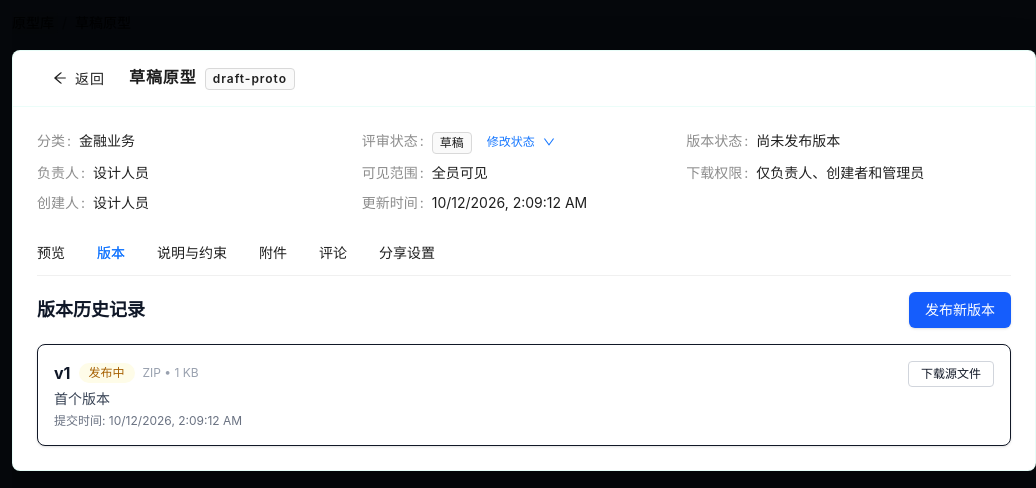
Test: PrototypeDetailPage › shows publishing hint on preview tab while first version is still publishing
This screenshot has width=1036, height=488.
Click the tab "预览" at (51, 253), box [37, 242, 65, 264]
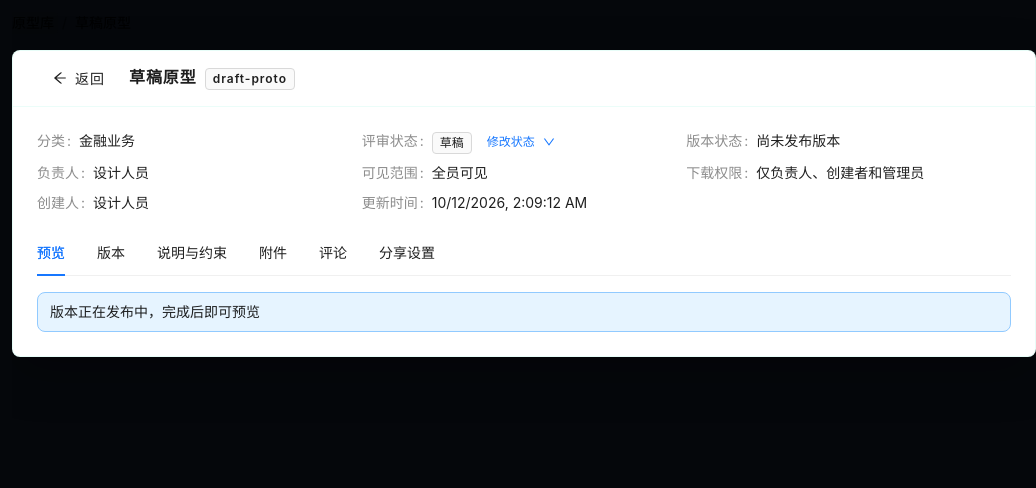
Result: the text "版本正在发布中，完成后即可预览" is shown at [50, 303, 260, 320]
